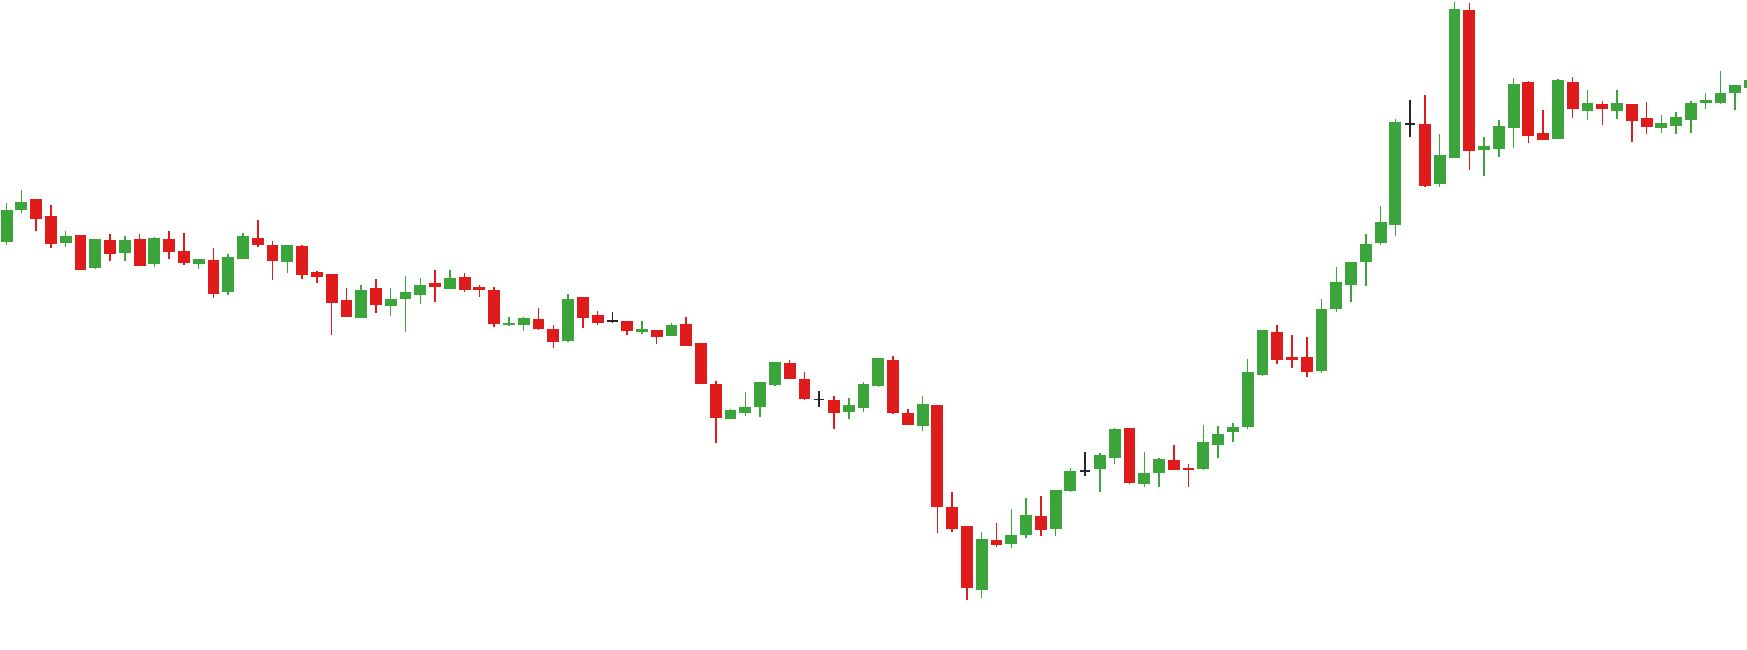sell: (767, 353, 901, 402), (159, 219, 267, 277)
